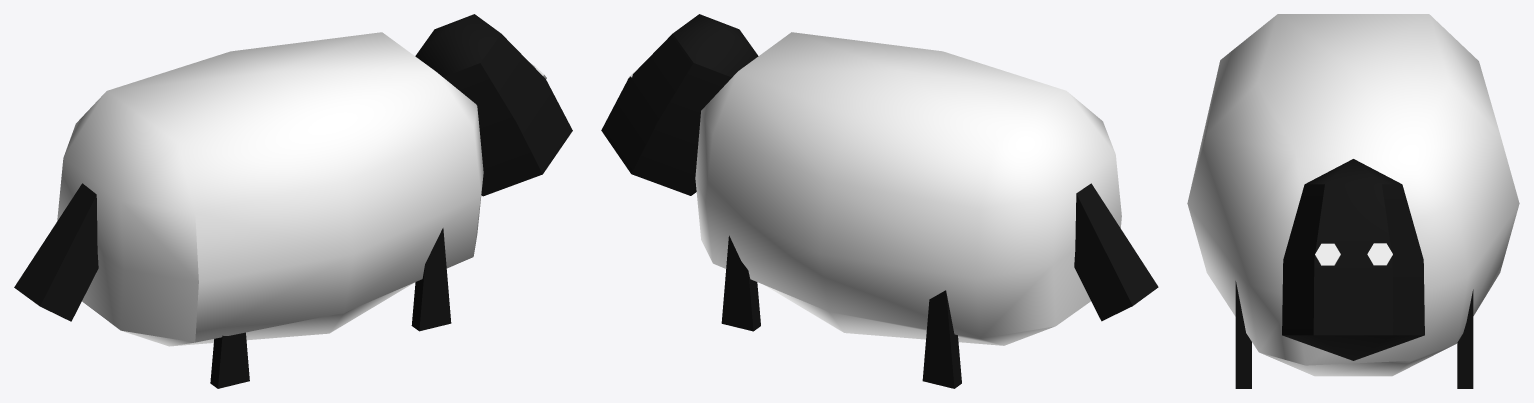
Rendered from Sheep.fbx.
The picture shows the model from 3 angles, left to right: view 1: azimuth 30°, elevation 25°; view 2: azimuth 150°, elevation 25°; view 3: azimuth 270°, elevation 25°; orthographic projection. The views are drawn at different scales.
Parts seen in each view (by area): view 1: Sheep; view 2: Sheep; view 3: Sheep.
Boxes of the visible parts, bbox=[...] form: Sheep: bbox=[14, 14, 572, 388]; Sheep: bbox=[601, 14, 1158, 388]; Sheep: bbox=[1187, 14, 1519, 388].
Size of the model in its own units: 0.2198 by 0.0963 by 0.1126.
